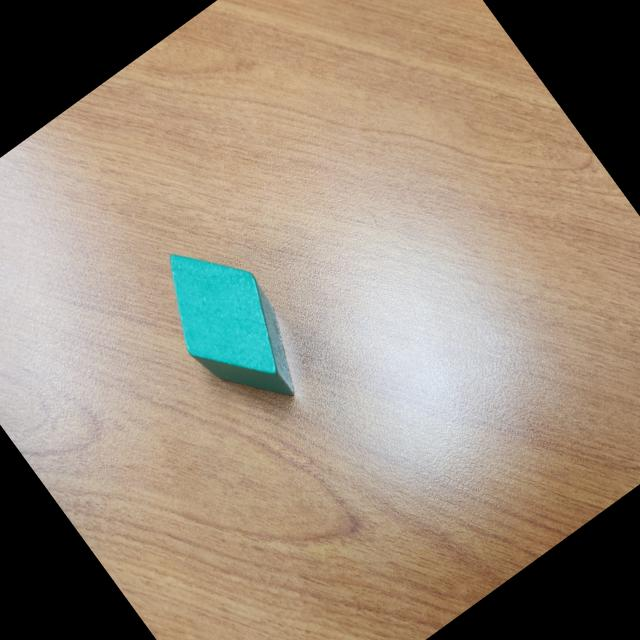green: (134, 221, 322, 428)
